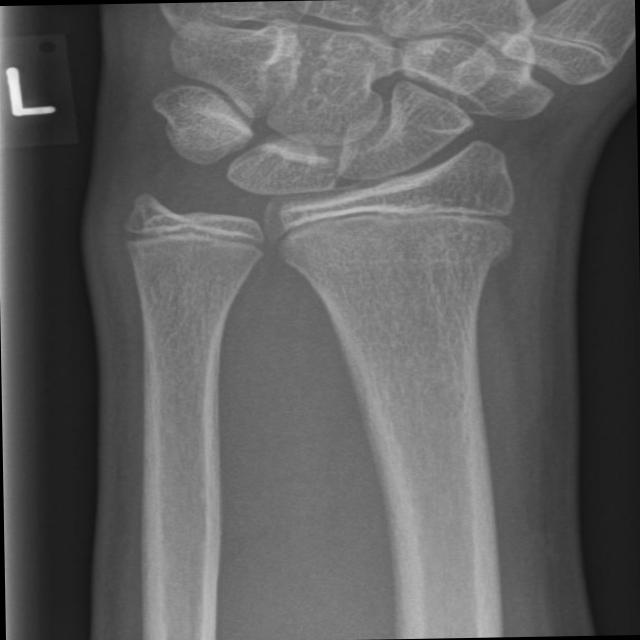fracture: (258, 184, 532, 256), (110, 204, 286, 270)
